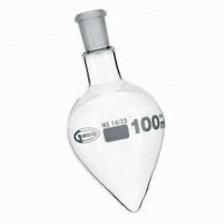Pear shaped flask: (67, 12, 170, 214)
